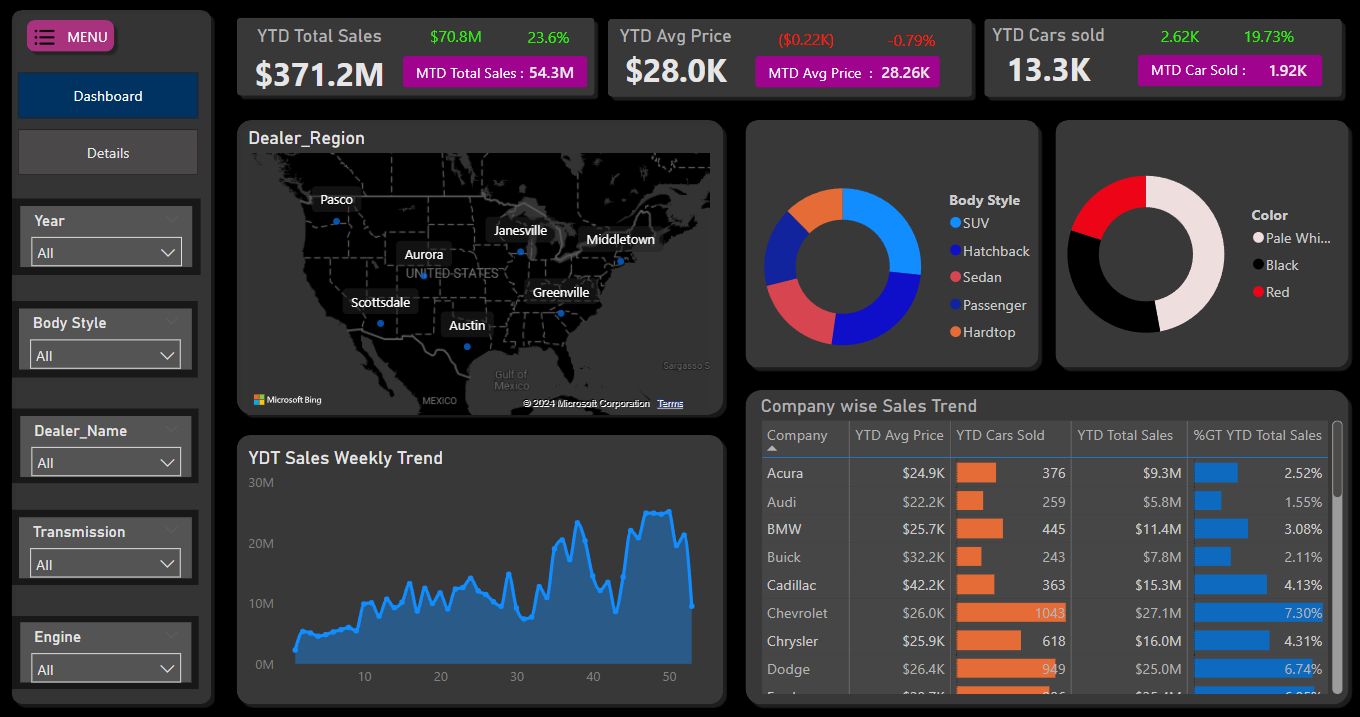

What the dashboard file says about the page in this screenshot:
{"tool":"powerbi","page":{"name":"Dashboard","canvas":[1280,720],"ordinal":0},"visuals":[{"type":"shape","box":[10.6,49.4,197.6,657.6],"z":0},{"type":"shape","box":[220,55.3,345,84.7],"z":1000},{"type":"shape","box":[564.7,56.5,350.6,84.7],"z":2000},{"type":"shape","box":[915.3,56.5,344.7,84.7],"z":3000},{"type":"shape","box":[220,150.6,464.7,285.9],"z":4000},{"type":"shape","box":[692.9,150.6,284.7,242.4],"z":5000},{"type":"shape","box":[981.2,150.6,284.7,242.4],"z":6000},{"type":"shape","box":[220,444.7,464.7,262.4],"z":7000},{"type":"shape","box":[692.9,402.4,572.9,304.7],"z":8000},{"type":"card","title":"YTD Total Sales","fields":{"Values":["car_data.YTD Total Sales"]},"box":[215.3,68.2,175.3,72.9],"z":9000},{"type":"card","title":"YTD Total Sales","fields":{"Values":["car_data.Sales Difference"]},"box":[367.1,64.7,124.7,32.9],"z":10000},{"type":"card","title":"YTD Total Sales","fields":{"Values":["car_data.YoY Sale Growth"]},"box":[452.9,64.7,124.7,34.1],"z":11000},{"type":"shape","box":[380,97.6,171.8,29.4],"z":12000},{"type":"card","fields":{"Values":["car_data.MTD Total Sales"]},"box":[471.8,101.2,92.9,28.2],"z":13000},{"type":"textbox","box":[380,98.8,135.3,31.8],"z":14000},{"type":"card","title":"YTD Avg Price","fields":{"Values":["car_data.YTD Avg Price"]},"box":[551.8,68.2,163.5,65.9],"z":15000},{"type":"areaChart","title":"YDT Sales Weekly Trend","fields":{"Category":["Date_Table.Week"],"Y":["Sum(car_data.Price ($))"]},"box":[231.8,461.2,440,231.8],"z":16000},{"type":"card","title":"YTD Total Sales","fields":{"Values":["car_data.Avg Price Difference"]},"box":[692.9,67.1,124.7,34.1],"z":17000},{"type":"card","title":"YTD Total Sales","fields":{"Values":["car_data.YoY Avg Price Growth"]},"box":[790.6,67.1,124.7,35.3],"z":18000},{"type":"shape","box":[708.1,98.2,171.8,29.4],"z":19000},{"type":"card","fields":{"Values":["car_data.MTD Avg Price"]},"box":[817.6,101.2,61.2,28.2],"z":20000},{"type":"textbox","box":[708.1,98.8,126.7,31.4],"z":21000},{"type":"shape","box":[6,229.9,186.5,71.5],"z":22000},{"type":"slicer","fields":{"Values":["Date_Table.Year"]},"box":[24.7,236.9,160.1,56.6],"z":23000},{"type":"donutChart","title":"    Count of Car_id by Body Style","fields":{"Y":["CountNonNull(car_data.Car_id)"],"Category":["car_data.Body Style"]},"box":[686.2,197.5,291.2,192.5],"z":24000},{"type":"donutChart","title":"    Count of Car_id by Body Style","fields":{"Y":["CountNonNull(car_data.Car_id)"],"Category":["car_data.Color"]},"box":[968.8,186.2,291.2,192.5],"z":25000},{"type":"tableEx","title":"Company wise Sales Trend","fields":{"Values":["car_data.Company","car_data.YTD Avg Price","car_data.YTD Cars Sold","car_data.YTD Total Sales1","car_data.YTD Total Sales"]},"box":[708.1,412.8,551.2,283.7],"z":26000},{"type":"card","title":"YTD Cars sold","fields":{"Values":["car_data.YTD Cars Sold"]},"box":[898.8,67.4,164,66.3],"z":27000},{"type":"map","fields":{"Category":["car_data.Dealer_Region"]},"box":[231.5,164.2,439.3,272.8],"z":28000},{"type":"card","title":"YTD Total Sales","fields":{"Values":["car_data.Cars Sold Difference"]},"box":[1040.5,63.8,125.2,34.2],"z":29000},{"type":"card","title":"YTD Total Sales","fields":{"Values":["car_data.Car sold Price Growth"]},"box":[1123.2,63.8,125.2,34.2],"z":30000},{"type":"shape","box":[1063.9,96,171.8,29.4],"z":31000},{"type":"card","fields":{"Values":["car_data.MTD Car Price"]},"box":[1173.5,98.9,61.2,28.2],"z":32000},{"type":"textbox","box":[1063.9,96.6,126.7,31.4],"z":33000},{"type":"shape","box":[15.7,325.3,174.7,71.2],"z":34000},{"type":"slicer","fields":{"Values":["car_data.Body Style"]},"box":[23.2,332.8,160.6,57.1],"z":35000},{"type":"shape","box":[6.1,425.6,184.4,69.4],"z":36000},{"type":"slicer","fields":{"Values":["car_data.Dealer_Name"]},"box":[24.7,432.3,159.6,56.6],"z":37000},{"type":"shape","box":[10.6,618.3,180,68.3],"z":38000},{"type":"shape","box":[6.1,519.4,184.4,70],"z":39000},{"type":"slicer","fields":{"Values":["car_data.Transmission"]},"box":[23.2,526.3,160.6,56.6],"z":40000},{"type":"slicer","fields":{"Values":["car_data.Engine"]},"box":[24.9,624.3,159.5,55.7],"z":41000},{"type":"pageNavigator","box":[22.7,113.3,168,96],"z":42000},{"type":"shape","box":[24.8,58.7,93.3,41.3],"z":43000},{"type":"textbox","box":[55.6,64.6,80.1,30.7],"z":44000},{"type":"image","box":[29.6,65.8,36.2,28.1],"z":45000},{"type":"textbox","box":[693,164,240.7,31.4],"z":46000},{"type":"textbox","box":[993,161.6,240.7,31.4],"z":47000}]}

Visuals, with their boxes on the page's 1280x720 design canvas (x1, y1, x2, y2). These are canvas units, not pixel positions in the 1360x717 screenshot, which may show the page scaled, cropped or inside an application window:
shape: [x1=11, y1=49, x2=208, y2=707]
shape: [x1=220, y1=55, x2=565, y2=140]
shape: [x1=565, y1=56, x2=915, y2=141]
shape: [x1=915, y1=56, x2=1260, y2=141]
shape: [x1=220, y1=151, x2=685, y2=436]
shape: [x1=693, y1=151, x2=978, y2=393]
shape: [x1=981, y1=151, x2=1266, y2=393]
shape: [x1=220, y1=445, x2=685, y2=707]
shape: [x1=693, y1=402, x2=1266, y2=707]
"YTD Total Sales" card: [x1=215, y1=68, x2=391, y2=141]
"YTD Total Sales" card: [x1=367, y1=65, x2=492, y2=98]
"YTD Total Sales" card: [x1=453, y1=65, x2=578, y2=99]
shape: [x1=380, y1=98, x2=552, y2=127]
card - car_data.MTD Total Sales: [x1=472, y1=101, x2=565, y2=129]
textbox: [x1=380, y1=99, x2=515, y2=131]
"YTD Avg Price" card: [x1=552, y1=68, x2=715, y2=134]
"YDT Sales Weekly Trend" areaChart: [x1=232, y1=461, x2=672, y2=693]
"YTD Total Sales" card: [x1=693, y1=67, x2=818, y2=101]
"YTD Total Sales" card: [x1=791, y1=67, x2=915, y2=102]
shape: [x1=708, y1=98, x2=880, y2=128]
card - car_data.MTD Avg Price: [x1=818, y1=101, x2=879, y2=129]
textbox: [x1=708, y1=99, x2=835, y2=130]
shape: [x1=6, y1=230, x2=192, y2=301]
slicer - Date_Table.Year: [x1=25, y1=237, x2=185, y2=294]
"    Count of Car_id by Body Style" donutChart: [x1=686, y1=198, x2=977, y2=390]
"    Count of Car_id by Body Style" donutChart: [x1=969, y1=186, x2=1260, y2=379]
"Company wise Sales Trend" tableEx: [x1=708, y1=413, x2=1259, y2=696]
"YTD Cars sold" card: [x1=899, y1=67, x2=1063, y2=134]
map - car_data.Dealer_Region: [x1=232, y1=164, x2=671, y2=437]
"YTD Total Sales" card: [x1=1040, y1=64, x2=1166, y2=98]
"YTD Total Sales" card: [x1=1123, y1=64, x2=1248, y2=98]
shape: [x1=1064, y1=96, x2=1236, y2=125]
card - car_data.MTD Car Price: [x1=1174, y1=99, x2=1235, y2=127]
textbox: [x1=1064, y1=97, x2=1191, y2=128]
shape: [x1=16, y1=325, x2=190, y2=396]
slicer - car_data.Body Style: [x1=23, y1=333, x2=184, y2=390]
shape: [x1=6, y1=426, x2=190, y2=495]
slicer - car_data.Dealer_Name: [x1=25, y1=432, x2=184, y2=489]
shape: [x1=11, y1=618, x2=191, y2=687]
shape: [x1=6, y1=519, x2=190, y2=589]
slicer - car_data.Transmission: [x1=23, y1=526, x2=184, y2=583]
slicer - car_data.Engine: [x1=25, y1=624, x2=184, y2=680]
pageNavigator: [x1=23, y1=113, x2=191, y2=209]
shape: [x1=25, y1=59, x2=118, y2=100]
textbox: [x1=56, y1=65, x2=136, y2=95]
image: [x1=30, y1=66, x2=66, y2=94]
textbox: [x1=693, y1=164, x2=934, y2=195]
textbox: [x1=993, y1=162, x2=1234, y2=193]
